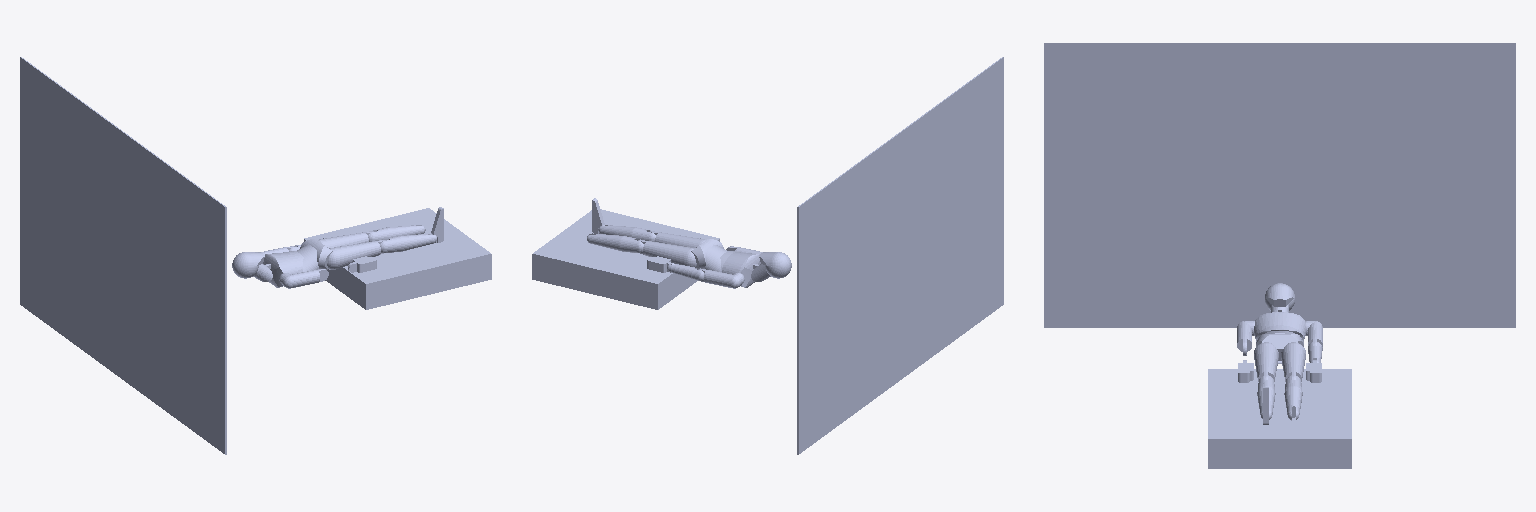
--- Render facts (derived) ---
3 views of the same robot in one strip: view 1: azimuth 30°, elevation 25°; view 2: azimuth 150°, elevation 25°; view 3: azimuth 270°, elevation 25° (orthographic).
Robot: autobed — 26 links, 25 joints (20 revolute, 3 prismatic, 2 fixed); root link autobed/base_link; default pose: every joint at zero.
Visible links, largest first — view 1: autobed/wall_link, autobed/leg_rest_lower_link, autobed/leg_rest_upper_link, autobed/quad_right_link, autobed/upper_body_link, autobed/calf_right_link, autobed/head_link, autobed/arm_right_link, autobed/calf_left_link; view 2: autobed/wall_link, autobed/leg_rest_lower_link, autobed/leg_rest_upper_link, autobed/upper_body_link, autobed/quad_left_link, autobed/calf_left_link, autobed/head_link, autobed/calf_right_link, autobed/arm_left_link; view 3: autobed/wall_link, autobed/leg_rest_lower_link, autobed/leg_rest_upper_link, autobed/upper_body_link, autobed/quad_left_link, autobed/quad_right_link, autobed/calf_left_link, autobed/head_link.
Boxes of the visible links, x1,y1,x2,y2 form: autobed/wall_link: (20,57,226,454); autobed/leg_rest_lower_link: (348,208,491,298); autobed/leg_rest_upper_link: (304,228,409,309); autobed/quad_right_link: (327,240,386,269); autobed/upper_body_link: (263,251,303,287); autobed/calf_right_link: (380,233,436,252); autobed/head_link: (232,252,264,278); autobed/arm_right_link: (279,269,328,288); autobed/calf_left_link: (368,225,425,241); autobed/wall_link: (797,57,1003,454); autobed/leg_rest_lower_link: (532,209,675,298); autobed/leg_rest_upper_link: (614,228,719,309); autobed/upper_body_link: (720,251,760,287); autobed/quad_left_link: (638,240,696,267); autobed/calf_left_link: (587,233,643,252); autobed/head_link: (759,252,791,278); autobed/calf_right_link: (598,225,655,241); autobed/arm_left_link: (698,269,744,288); autobed/wall_link: (1044,43,1515,327); autobed/leg_rest_lower_link: (1208,394,1351,468); autobed/leg_rest_upper_link: (1208,369,1351,393); autobed/upper_body_link: (1254,312,1305,341); autobed/quad_left_link: (1281,342,1305,381); autobed/quad_right_link: (1254,342,1278,381); autobed/calf_left_link: (1284,375,1302,420); autobed/head_link: (1265,283,1294,310).
Bounding box of the posed robot: 2.85 × 3 × 2 m (x, y, z).
18 mesh visuals loaded from 24 distinct referenced files (18 binary STL); not drawn: 6 (reference not matched to a file when rendering).

robot.urdf — autobed:
<?xml version="1.0" ?>
<robot
  name="autobed">
  <link
    name="autobed/base_link">
    <inertial>
      <origin
        xyz="1.07 -1.1433776843867E-16 0.0654891108010717"
        rpy="0 0 0" />
      <mass
        value="5.8260172808288" />
      <inertia
        ixx="1.14927006759014"
        ixy="4.44089209850063E-16"
        ixz="-2.75515108570424E-16"
        iyy="6.70434113225239"
        iyz="-1.34851165646458E-15"
        izz="7.79754704731756" />
    </inertial>
    <visual>
      <origin
        xyz="0 0 0"
        rpy="0 0 0" />
      <geometry>
        <mesh
          filename="package://hrl_base_selection/urdf/meshes/base_link.STL" />
      </geometry>
      <material
        name="">
        <color
          rgba="0.792156862745098 0.819607843137255 0.933333333333333 1" />
      </material>
    </visual>
    <collision>
      <origin
        xyz="0 0 0"
        rpy="0 0 0" />
      <geometry>
        <mesh
          filename="package://hrl_base_selection/urdf/meshes/base_link.STL" />
      </geometry>
    </collision>
  </link>
  <link
    name="autobed/wall_link">
    <inertial>
      <origin
        xyz="0. 0. 0."
        rpy="0 0 0" />
      <mass
        value="182.783" />
      <inertia
        ixx="14.1727036705024"
        ixy="3.00274731894519E-14"
        ixz="-0.582878793213973"
        iyy="75.8057802285568"
        iyz="9.93663151183257E-16"
        izz="86.6905817538877" />
    </inertial>
    <visual>
      <origin
        xyz="0 0 0"
        rpy="0 0 0" />
      <geometry>
        <mesh
          filename="package://hrl_base_selection/urdf/meshes/wall.stl" />
      </geometry>
      <material
        name="">
        <color
          rgba="0.792156862745098 0.819607843137255 0.933333333333333 1" />
      </material>
    </visual>
    <collision>
      <origin
        xyz="0 0 0"
        rpy="0 0 0" />
      <geometry>
        <mesh
          filename="package://hrl_base_selection/urdf/meshes/wall.stl" />
      </geometry>
    </collision>
  </link>
  <joint
    name="autobed/origin_wall_joint"
    type="fixed">
    <origin
      xyz="-0.75 0. 0."
      rpy="0 0 0" />
    <parent
      link="autobed/base_link" />
    <child
      link="autobed/wall_link" />
    <axis
      xyz="0 0 0" />
  </joint>
  <link
    name="autobed/bed_frame_link">
    <inertial>
      <origin
        xyz="1.0399 -0.27375 0.088166"
        rpy="0 0 0" />
      <mass
        value="182.783" />
      <inertia
        ixx="14.1727036705024"
        ixy="3.00274731894519E-14"
        ixz="-0.582878793213973"
        iyy="75.8057802285568"
        iyz="9.93663151183257E-16"
        izz="86.6905817538877" />
    </inertial>
    <visual>
      <origin
        xyz="0 0 0"
        rpy="0 0 0" />
      <geometry>
        <mesh
          filename="package://hrl_base_selection/urdf/meshes/bed_frame_link.STL" />
      </geometry>
      <material
        name="">
        <color
          rgba="0.792156862745098 0.819607843137255 0.933333333333333 1" />
      </material>
    </visual>
    <collision>
      <origin
        xyz="0 0 0"
        rpy="0 0 0" />
      <geometry>
        <mesh
          filename="package://hrl_base_selection/urdf/meshes/bed_frame_link.STL" />
      </geometry>
    </collision>
  </link>
  <joint
    name="autobed/tele_legs_joint"
    type="prismatic">
    <origin
      xyz="-0.02 .27375 0.2805"
      rpy="0 0 0" />
    <parent
      link="autobed/base_link" />
    <child
      link="autobed/bed_frame_link" />
    <axis
      xyz="0 0 1" />
    <limit
      lower="-1"
      upper="1"
      effort="0"
      velocity="0" />
  </joint>
  <link
    name="autobed/head_rest_link">
    <inertial>
      <origin
        xyz="0.372569569871449 -0.0933538492374752 -3.9665323774659E-16"
        rpy="0 0 0" />
      <mass
        value="152.153755040103" />
      <inertia
        ixx="11.3335835372931"
        ixy="0.223420816611719"
        ixz="-1.53371591687193E-15"
        iyy="16.9421346103201"
        iyz="-3.30400962622086E-15"
        izz="7.04456355370477" />
    </inertial>
    <visual>
      <origin
        xyz="0 0 0"
        rpy="0 0 0" />
      <geometry>
        <mesh
          filename="package://hrl_base_selection/urdf/meshes/head_rest_link.STL" />
      </geometry>
      <material
        name="">
        <color
          rgba="0.792156862745098 0.819607843137255 0.933333333333333 1" />
      </material>
    </visual>
    <collision>
      <origin
        xyz="0 0 0"
        rpy="0 0 0" />
      <geometry>
        <mesh
          filename="package://hrl_base_selection/urdf/meshes/head_rest_link.STL" />
      </geometry>
    </collision>
  </link>
  <joint
    name="autobed/head_rest_hinge"
    type="revolute">
    <origin
      xyz="0.775 -.27375 0.26"
      rpy="1.5708 1.0561E-10 3.1416" />
    <parent
      link="autobed/bed_frame_link" />
    <child
      link="autobed/head_rest_link" />
    <axis
      xyz="0 0 1" />
    <limit
      lower="-2"
      upper="2"
      effort="0"
      velocity="0" />
  </joint>
  <link
    name="autobed/head_updown_translation_link">
    <inertial>
      <origin
        xyz="0.102906766161206 -9.91266292424373E-09 -0.0297782124304694"
        rpy="0 0 0" />
      <mass
        value="3.9328527892651" />
      <inertia
        ixx="0.0179544834914724"
        ixy="-5.43457600009831E-10"
        ixz="-0.00240657860486129"
        iyy="0.0177023015774365"
        iyz="-5.46748238349167E-09"
        izz="0.0152180232656692" />
    </inertial>
  </link>
  <joint
    name="autobed/head_bed_updown_joint"
    type="prismatic">
    <origin
      xyz="0.49949 0.05 0"
      rpy="1.5708 -2.9674E-16 1.5708" />
    <parent
      link="autobed/head_rest_link" />
    <child
      link="autobed/head_updown_translation_link" />
    <axis
      xyz="0 0 -1" />
    <limit
      lower="-20."
      upper="20."
      effort="0"
      velocity="0" />
  </joint>
  <link
    name="autobed/head_leftright_translation_link">
    <inertial>
      <origin
        xyz="0.102906766161206 0.0297782124304694 -9.912662920814E-09"
        rpy="0 0 0" />
      <mass
        value="3.9328527892651" />
      <inertia
        ixx="0.0179544834914724"
        ixy="0.00240657860486129"
        ixz="-5.43457600415785E-10"
        iyy="0.0152180232656692"
        iyz="5.46748238053038E-09"
        izz="0.0177023015774365" />
    </inertial>
  </link>
  <joint
    name="autobed/head_bed_leftright_joint"
    type="prismatic">
    <origin
      xyz="0 0 0"
      rpy="-1.5708 -1.0548E-16 7.5835E-18" />
    <parent
      link="autobed/head_updown_translation_link" />
    <child
      link="autobed/head_leftright_translation_link" />
    <axis
      xyz="0 0 1" />
    <limit
      lower="-2"
      upper="2"
      effort="0"
      velocity="0" />
  </joint>
  <link
    name="autobed/head_link">
    <inertial>
      <origin
        xyz="0.00931747164111318 -9.91266701204326E-09 0.0105706865051194"
        rpy="0 0 0" />
      <mass
        value="3.9328527892651" />
      <inertia
        ixx="0.0165678861121358"
        ixy="8.90148620513218E-10"
        ixz="-0.0027682732644648"
        iyy="0.0177023015774365"
        iyz="-5.42183952528328E-09"
        izz="0.0166046206450058" />
    </inertial>
    <visual>
      <origin
        xyz="0 0 0"
        rpy="0 0 0" />
      <geometry>
        <mesh
          filename="package://hrl_base_selection/urdf/meshes/head_link.STL" />
      </geometry>
      <material
        name="">
        <color
          rgba="0.792156862745098 0.819607843137255 0.933333333333333 1" />
      </material>
    </visual>
    <collision>
      <origin
        xyz="0 0 0"
        rpy="0 0 0" />
      <geometry>
        <mesh
          filename="package://hrl_base_selection/urdf/meshes/head_link.STL" />
      </geometry>
    </collision>
  </link>
  <joint
    name="autobed/head_contact_to_head_center"
    type="fixed">
    <origin
      xyz="0.091171 0.037577 0"
      rpy="1.5708 -3.0499E-16 0.2618" />
    <parent
      link="autobed/head_leftright_translation_link" />
    <child
      link="autobed/head_link" />
    <axis
      xyz="0 0 0" />
  </joint>
  <link
    name="autobed/neck_rotation">
    <inertial>
      <origin
        xyz="0.0299911113671753 -1.13479703411912E-09 5.25989263663437E-09"
        rpy="0 0 0" />
      <mass
        value="1.53148702191926" />
      <inertia
        ixx="0.00269322706497261"
        ixy="1.09857620830128E-10"
        ixz="7.58048241070777E-10"
        iyy="0.00564516811473134"
        iyz="9.21844170034423E-09"
        izz="0.00511128582091916" />
    </inertial>
    <visual>
      <origin
        xyz="0 0 0"
        rpy="0 0 0" />
      <geometry>
        <mesh
          filename="package://hrl_base_selection/urdf/meshes/neck_rotation.STL" />
      </geometry>
      <material
        name="">
        <color
          rgba="0.792156862745098 0.819607843137255 0.933333333333333 1" />
      </material>
    </visual>
    <collision>
      <origin
        xyz="0 0 0"
        rpy="0 0 0" />
      <geometry>
        <mesh
          filename="package://hrl_base_selection/urdf/meshes/neck_rotation.STL" />
      </geometry>
    </collision>
  </link>
  <joint
    name="autobed/head_neck_joint1"
    type="revolute">
    <origin
      xyz="-0.0254 0 -0.08509"
      rpy="-1.5708 1.1345 -3.1416" />
    <parent
      link="autobed/head_link" />
    <child
      link="autobed/neck_rotation" />
    <axis
      xyz="0 0 1" />
    <limit
      lower="-2"
      upper="2"
      effort="0"
      velocity="0" />
  </joint>
  <link
    name="autobed/neck_link">
    <inertial>
      <origin
        xyz="0.0299911113671752 -1.13479703411912E-09 5.2598925958448E-09"
        rpy="0 0 0" />
      <mass
        value="1.53148702191926" />
      <inertia
        ixx="0.00269322706497261"
        ixy="1.09857618011203E-10"
        ixz="7.58048239319453E-10"
        iyy="0.00564516811473135"
        iyz="9.2184417026311E-09"
        izz="0.00511128582091917" />
    </inertial>
    <visual>
      <origin
        xyz="0 0 0"
        rpy="0 0 0" />
      <geometry>
        <mesh
          filename="package://hrl_base_selection/urdf/meshes/neck_link.STL" />
      </geometry>
      <material
        name="">
        <color
          rgba="0.792156862745098 0.819607843137255 0.933333333333333 1" />
      </material>
    </visual>
    <collision>
      <origin
        xyz="0 0 0"
        rpy="0 0 0" />
      <geometry>
        <mesh
          filename="package://hrl_base_selection/urdf/meshes/neck_link.STL" />
      </geometry>
    </collision>
  </link>
  <joint
    name="autobed/head_neck_joint2"
    type="revolute">
    <origin
      xyz="0 0 0"
      rpy="0 3.1554E-30 0" />
    <parent
      link="autobed/neck_rotation" />
    <child
      link="autobed/neck_link" />
    <axis
      xyz="0 0 1" />
    <limit
      lower="-2"
      upper="2"
      effort="0"
      velocity="0" />
  </joint>
  <link
    name="autobed/upper_body_link">
    <inertial>
      <origin
        xyz="0.158709266111028 -2.77439784790445E-06 1.07349517852832E-06"
        rpy="0 0 0" />
      <mass
        value="10.994324812456" />
      <inertia
        ixx="0.0988263493770442"
        ixy="1.38503182626169E-06"
        ixz="-6.9051458787949E-07"
        iyy="0.107887273916327"
        iyz="1.87457468166473E-07"
        izz="0.0771158536159493" />
    </inertial>
    <visual>
      <origin
        xyz="0 0 0"
        rpy="0 0 0" />
      <geometry>
        <mesh
          filename="package://hrl_base_selection/urdf/meshes/upper_body_link.STL" />
      </geometry>
      <material
        name="">
        <color
          rgba="0.792156862745098 0.819607843137255 0.933333333333333 1" />
      </material>
    </visual>
    <collision>
      <origin
        xyz="0 0 0"
        rpy="0 0 0" />
      <geometry>
        <mesh
          filename="package://hrl_base_selection/urdf/meshes/upper_body_link.STL" />
      </geometry>
    </collision>
  </link>
  <joint
    name="autobed/neck_body_joint"
    type="revolute">
    <origin
      xyz="0.07239 0 0"
      rpy="-8.8242E-17 -8.2927E-14 0.66506" />
    <parent
      link="autobed/neck_link" />
    <child
      link="autobed/upper_body_link" />
    <axis
      xyz="0 0 -1" />
    <limit
      lower="-2"
      upper="2"
      effort="0"
      velocity="0" />
  </joint>
  <link
    name="autobed/mid_body_link">
    <inertial>
      <origin
        xyz="-0.0123598486303793 -2.47973091949127E-07 4.77082923404006E-06"
        rpy="0 0 0" />
      <mass
        value="6.7659491084038" />
      <inertia
        ixx="0.0508733259634872"
        ixy="-3.30920427328747E-07"
        ixz="-1.38996093328425E-06"
        iyy="0.0489774373986986"
        iyz="-1.12269337166179E-05"
        izz="0.0317417004953391" />
    </inertial>
    <visual>
      <origin
        xyz="0 0 0"
        rpy="0 0 0" />
      <geometry>
        <mesh
          filename="package://hrl_base_selection/urdf/meshes/mid_body_link.STL" />
      </geometry>
      <material
        name="">
        <color
          rgba="0.792156862745098 0.819607843137255 0.933333333333333 1" />
      </material>
    </visual>
    <collision>
      <origin
        xyz="0 0 0"
        rpy="0 0 0" />
      <geometry>
        <mesh
          filename="package://hrl_base_selection/urdf/meshes/mid_body_link.STL" />
      </geometry>
    </collision>
  </link>
  <joint
    name="autobed/upper_mid_body_joint"
    type="revolute">
    <origin
      xyz="0.35052 0 0"
      rpy="2.8327E-14 7.7949E-14 0.34907" />
    <parent
      link="autobed/upper_body_link" />
    <child
      link="autobed/mid_body_link" />
    <axis
      xyz="0 0 -1" />
    <limit
      lower="-2"
      upper="2"
      effort="0"
      velocity="0" />
  </joint>
  <link
    name="autobed/lower_body_link">
    <inertial>
      <origin
        xyz="-0.0424892964347593 -1.55212564689755E-07 -3.05517167826124E-08"
        rpy="0 0 0" />
      <mass
        value="3.76095443118537" />
      <inertia
        ixx="0.0264188029132303"
        ixy="5.26534020954018E-07"
        ixz="1.13275130192356E-08"
        iyy="0.021880217675706"
        iyz="6.6476429005472E-06"
        izz="0.0115760285735275" />
    </inertial>
    <visual>
      <origin
        xyz="0 0 0"
        rpy="0 0 0" />
      <geometry>
        <mesh
          filename="package://hrl_base_selection/urdf/meshes/lower_body_link.STL" />
      </geometry>
      <material
        name="">
        <color
          rgba="0.792156862745098 0.819607843137255 0.933333333333333 1" />
      </material>
    </visual>
    <collision>
      <origin
        xyz="0 0 0"
        rpy="0 0 0" />
      <geometry>
        <mesh
          filename="package://hrl_base_selection/urdf/meshes/lower_body_link.STL" />
      </geometry>
    </collision>
  </link>
  <joint
    name="autobed/mid_lower_body_joint"
    type="revolute">
    <origin
      xyz="0.15113 0 0"
      rpy="-4.3091E-16 1.669E-15 -0.57779" />
    <parent
      link="autobed/mid_body_link" />
    <child
      link="autobed/lower_body_link" />
    <axis
      xyz="0 0 -1" />
    <limit
      lower="-2"
      upper="2"
      effort="0"
      velocity="0" />
  </joint>
  <link
    name="autobed/quad_left_link">
    <inertial>
      <origin
        xyz="0.135870836223123 0.036406480838746 1.20320420293751E-14"
        rpy="0 0 0" />
      <mass
        value="6.89674952703915" />
      <inertia
        ixx="0.0241142535313263"
        ixy="0.0272592576621165"
        ixz="-8.25751406148771E-11"
        iyy="0.118543092031703"
        iyz="3.08210707771496E-10"
        izz="0.126021276865764" />
    </inertial>
    <visual>
      <origin
        xyz="0 0 0"
        rpy="0 0 0" />
      <geometry>
        <mesh
          filename="package://hrl_base_selection/urdf/meshes/quad_left_link.STL" />
      </geometry>
      <material
        name="">
        <color
          rgba="0.792156862745098 0.819607843137255 0.933333333333333 1" />
      </material>
    </visual>
    <collision>
      <origin
        xyz="0 0 0"
        rpy="0 0 0" />
      <geometry>
        <mesh
          filename="package://hrl_base_selection/urdf/meshes/quad_left_link.STL" />
      </geometry>
    </collision>
  </link>
  <joint
    name="autobed/body_quad_left_joint"
    type="revolute">
    <origin
      xyz="0.05207 0 -0.08636"
      rpy="-3.1554E-30 -3.1554E-30 -2.7756E-17" />
    <parent
      link="autobed/lower_body_link" />
    <child
      link="autobed/quad_left_link" />
    <axis
      xyz="0 0 1" />
    <limit
      lower="-3."
      upper="3."
      effort="0"
      velocity="0" />
  </joint>
  <link
    name="autobed/calf_left_link">
    <inertial>
      <origin
        xyz="-0.180906642816524 -0.0139713255979246 1.60067792354113E-12"
        rpy="0 0 0" />
      <mass
        value="3.39536669784164" />
      <inertia
        ixx="0.0049226177583511"
        ixy="0.00333413184068126"
        ixz="1.26232091450053E-12"
        iyy="0.0478368760783845"
        iyz="-4.13932285075363E-12"
        izz="0.0478732548846709" />
    </inertial>
    <visual>
      <origin
        xyz="0 0 0"
        rpy="0 0 0" />
      <geometry>
        <mesh
          filename="package://hrl_base_selection/urdf/meshes/calf_left_link.STL" />
      </geometry>
      <material
        name="">
        <color
          rgba="0.792156862745098 0.819607843137255 0.933333333333333 1" />
      </material>
    </visual>
    <collision>
      <origin
        xyz="0 0 0"
        rpy="0 0 0" />
      <geometry>
        <mesh
          filename="package://hrl_base_selection/urdf/meshes/calf_left_link.STL" />
      </geometry>
    </collision>
  </link>
  <joint
    name="autobed/quad_calf_left_joint"
    type="revolute">
    <origin
      xyz="0.41218 0.11044 0"
      rpy="3.1416 8.5469E-14 -2.8798" />
    <parent
      link="autobed/quad_left_link" />
    <child
      link="autobed/calf_left_link" />
    <axis
      xyz="0 0 1" />
    <limit
      lower="-3."
      upper="3."
      effort="0"
      velocity="0" />
  </joint>
  <link
    name="autobed/foot_left_link">
    <inertial>
      <origin
        xyz="-0.0475610965067932 0.0816676483447464 -4.16333634234434E-17"
        rpy="0 0 0" />
      <mass
        value="0.615189243278472" />
      <inertia
        ixx="0.00304936402573348"
        ixy="-0.000154899374275574"
        ixz="1.7446046542978E-19"
        iyy="0.000412328810634253"
        iyz="-3.97105362266834E-20"
        izz="0.00332455031530266" />
    </inertial>
    <visual>
      <origin
        xyz="0 0 0"
        rpy="0 0 0" />
      <geometry>
        <mesh
          filename="package://hrl_base_selection/urdf/meshes/foot_left_link.STL" />
      </geometry>
      <material
        name="">
        <color
          rgba="0.792156862745098 0.819607843137255 0.933333333333333 1" />
      </material>
    </visual>
    <collision>
      <origin
        xyz="0 0 0"
        rpy="0 0 0" />
      <geometry>
        <mesh
          filename="package://hrl_base_selection/urdf/meshes/foot_left_link.STL" />
      </geometry>
    </collision>
  </link>
  <joint
    name="autobed/calf_foot_left_joint"
    type="revolute">
    <origin
      xyz="-0.41279 -0.03188 0"
      rpy="2.4608E-16 9.411E-16 0.077076" />
    <parent
      link="autobed/calf_left_link" />
    <child
      link="autobed/foot_left_link" />
    <axis
      xyz="0 0 1" />
    <limit
      lower="-3."
      upper="3."
      effort="0"
      velocity="0" />
  </joint>
  <link
    name="autobed/quad_right_link">
    <inertial>
      <origin
        xyz="0.13587083622245 0.0364064808391208 1.19904086659517E-14"
        rpy="0 0 0" />
      <mass
        value="6.89674952703915" />
      <inertia
        ixx="0.024114253531194"
        ixy="0.0272592576618873"
        ixz="-8.2575179988774E-11"
        iyy="0.118543092031835"
        iyz="3.08210697239393E-10"
        izz="0.126021276865764" />
    </inertial>
    <visual>
      <origin
        xyz="0 0 0"
        rpy="0 0 0" />
      <geometry>
        <mesh
          filename="package://hrl_base_selection/urdf/meshes/quad_right_link.STL" />
      </geometry>
      <material
        name="">
        <color
          rgba="0.792156862745098 0.819607843137255 0.933333333333333 1" />
      </material>
    </visual>
    <collision>
      <origin
        xyz="0 0 0"
        rpy="0 0 0" />
      <geometry>
        <mesh
          filename="package://hrl_base_selection/urdf/meshes/quad_right_link.STL" />
      </geometry>
    </collision>
  </link>
  <joint
    name="autobed/body_quad_right_joint"
    type="revolute">
    <origin
      xyz="0.05207 0 0.08636"
      rpy="-3.1554E-30 -3.1554E-30 -2.7756E-17" />
    <parent
      link="autobed/lower_body_link" />
    <child
      link="autobed/quad_right_link" />
    <axis
      xyz="0 0 1" />
    <limit
      lower="-3"
      upper="3"
      effort="0"
      velocity="0" />
  </joint>
  <link
    name="autobed/calf_right_link">
    <inertial>
      <origin
        xyz="-0.180906642816537 -0.0139713255970793 1.60067792354113E-12"
        rpy="0 0 0" />
      <mass
        value="3.39536669784164" />
      <inertia
        ixx="0.00492261775832246"
        ixy="0.00333413184049699"
        ixz="1.26236389002121E-12"
        iyy="0.0478368760784132"
        iyz="-4.13931941107381E-12"
        izz="0.0478732548846708" />
    </inertial>
    <visual>
      <origin
        xyz="0 0 0"
        rpy="0 0 0" />
      <geometry>
        <mesh
          filename="package://hrl_base_selection/urdf/meshes/calf_right_link.STL" />
      </geometry>
      <material
        name="">
        <color
          rgba="0.792156862745098 0.819607843137255 0.933333333333333 1" />
      </material>
    </visual>
    <collision>
      <origin
        xyz="0 0 0"
        rpy="0 0 0" />
      <geometry>
        <mesh
          filename="package://hrl_base_selection/urdf/meshes/calf_right_link.STL" />
      </geometry>
    </collision>
  </link>
  <joint
    name="autobed/quad_calf_right_joint"
    type="revolute">
    <origin
      xyz="0.41218 0.11044 0"
      rpy="3.1416 8.5225E-14 -2.8798" />
    <parent
      link="autobed/quad_right_link" />
    <child
      link="autobed/calf_right_link" />
    <axis
      xyz="0 0 1" />
    <limit
      lower="-3"
      upper="3"
      effort="0"
      velocity="0" />
  </joint>
  <link
    name="autobed/foot_right_link">
    <inertial>
      <origin
        xyz="-0.0475610965067859 0.0816676483447651 1.38777878078145E-17"
        rpy="0 0 0" />
      <mass
        value="0.615189243278473" />
      <inertia
        ixx="0.00304936402573348"
        ixy="-0.000154899374275576"
        ixz="-2.68019252719947E-19"
        iyy="0.000412328810634254"
        iyz="3.53080400658611E-18"
        izz="0.00332455031530267" />
    </inertial>
    <visual>
      <origin
        xyz="0 0 0"
        rpy="0 0 0" />
      <geometry>
        <mesh
          filename="package://hrl_base_selection/urdf/meshes/foot_right_link.STL" />
      </geometry>
      <material
        name="">
        <color
          rgba="0.792156862745098 0.819607843137255 0.933333333333333 1" />
      </material>
    </visual>
    <collision>
      <origin
        xyz="0 0 0"
        rpy="0 0 0" />
      <geometry>
        <mesh
          filename="package://hrl_base_selection/urdf/meshes/foot_right_link.STL" />
      </geometry>
    </collision>
  </link>
  <joint
    name="autobed/calf_foot_right_joint"
    type="revolute">
    <origin
      xyz="-0.41279 -0.03188 0"
      rpy="3.3137E-27 3.7799E-26 0.077076" />
    <parent
      link="autobed/calf_right_link" />
    <child
      link="autobed/foot_right_link" />
    <axis
      xyz="0 0 1" />
    <limit
      lower="-3"
      upper="3"
      effort="0"
      velocity="0" />
  </joint>
  <link
    name="autobed/arm_left_link">
    <inertial>
      <origin
        xyz="0.1001623892808 -0.00376860746206564 -0.0415301013139193"
        rpy="0 0 0" />
      <mass
        value="2.60960654017703" />
      <inertia
        ixx="0.00404950781774846"
        ixy="-0.000794518553713614"
        ixz="-0.00213077537777598"
        iyy="0.0251366223518226"
        iyz="8.01649819245336E-05"
        izz="0.0243099855919405" />
    </inertial>
    <visual>
      <origin
        xyz="0 0 0"
        rpy="0 0 0" />
      <geometry>
        <mesh
          filename="package://hrl_base_selection/urdf/meshes/arm_left_link.STL" />
      </geometry>
      <material
        name="">
        <color
          rgba="0.792156862745098 0.819607843137255 0.933333333333333 1" />
      </material>
    </visual>
    <collision>
      <origin
        xyz="0 0 0"
        rpy="0 0 0" />
      <geometry>
        <mesh
          filename="package://hrl_base_selection/urdf/meshes/arm_left_link.STL" />
      </geometry>
    </collision>
  </link>
  <joint
    name="autobed/body_arm_left_joint"
    type="revolute">
    <origin
      xyz="0.09652 0 -0.17526"
      rpy="2.6872E-15 8.287E-14 0.033074" />
    <parent
      link="autobed/upper_body_link" />
    <child
      link="autobed/arm_left_link" />
    <axis
      xyz="0 0 1" />
    <limit
      lower="-3"
      upper="3"
      effort="0"
      velocity="0" />
  </joint>
  <link
    name="autobed/forearm_left_link">
    <inertial>
      <origin
        xyz="0.106228215345525 -1.91191507070698E-12 0"
        rpy="0 0 0" />
      <mass
        value="1.32173737819403" />
      <inertia
        ixx="0.00119534139517087"
        ixy="-1.35159335608086E-13"
        ixz="-5.04149881322934E-19"
        iyy="0.00870475374464507"
        iyz="1.19370114943691E-09"
        izz="0.00856399030741715" />
    </inertial>
    <visual>
      <origin
        xyz="0 0 0"
        rpy="0 0 0" />
      <geometry>
        <mesh
          filename="package://hrl_base_selection/urdf/meshes/forearm_left_link.STL" />
      </geometry>
      <material
        name="">
        <color
          rgba="0.792156862745098 0.819607843137255 0.933333333333333 1" />
      </material>
    </visual>
    <collision>
      <origin
        xyz="0 0 0"
        rpy="0 0 0" />
      <geometry>
        <mesh
          filename="package://hrl_base_selection/urdf/meshes/forearm_left_link.STL" />
      </geometry>
    </collision>
  </link>
  <joint
    name="autobed/arm_forearm_left_joint"
    type="revolute">
    <origin
      xyz="0.28174 -0.0106 -0.04953"
      rpy="1.1849E-16 -8.3419E-14 -1.6268E-27" />
    <parent
      link="autobed/arm_left_link" />
    <child
      link="autobed/forearm_left_link" />
    <axis
      xyz="0 0 1" />
    <limit
      lower="-3"
      upper="3"
      effort="0"
      velocity="0" />
  </joint>
  <link
    name="autobed/hand_left_link">
    <inertial>
      <origin
        xyz="0.0980143408405634 -1.86517468137026E-12 0.0049795365316434"
        rpy="0 0 0" />
      <mass
        value="1.1356241768054" />
      <inertia
        ixx="0.00131058345181311"
        ixy="-4.85702000140823E-14"
        ixz="-9.6566899557011E-05"
        iyy="0.00386297813592635"
        iyz="1.8376914107142E-15"
        izz="0.00343338240819095" />
    </inertial>
    <visual>
      <origin
        xyz="0 0 0"
        rpy="0 0 0" />
      <geometry>
        <mesh
          filename="package://hrl_base_selection/urdf/meshes/hand_left_link.STL" />
      </geometry>
      <material
        name="">
        <color
          rgba="0.792156862745098 0.819607843137255 0.933333333333333 1" />
      </material>
    </visual>
    <collision>
      <origin
        xyz="0 0 0"
        rpy="0 0 0" />
      <geometry>
        <mesh
          filename="package://hrl_base_selection/urdf/meshes/hand_left_link.STL" />
      </geometry>
    </collision>
  </link>
  <joint
    name="autobed/forearm_hand_left_joint"
    type="revolute">
    <origin
      xyz="0.25146 0 0"
      rpy="1.3447E-16 8.3999E-14 1.6283E-27" />
    <parent
      link="autobed/forearm_left_link" />
    <child
      link="autobed/hand_left_link" />
    <axis
      xyz="0 0 1" />
    <limit
      lower="-3"
      upper="3"
      effort="0"
      velocity="0" />
  </joint>
  <link
    name="autobed/arm_right_link">
    <inertial>
      <origin
        xyz="0.100233262071747 3.52074113196821E-08 0.041530101413327"
        rpy="0 0 0" />
      <mass
        value="2.60960651501635" />
      <inertia
        ixx="0.00401961437786645"
        ixy="-7.60885930854E-10"
        ixz="0.00213228273829607"
        iyy="0.0251665155968144"
        iyz="-4.35824513311461E-09"
        izz="0.0243099854332681" />
    </inertial>
    <visual>
      <origin
        xyz="0 0 0"
        rpy="0 0 0" />
      <geometry>
        <mesh
          filename="package://hrl_base_selection/urdf/meshes/arm_right_link.STL" />
      </geometry>
      <material
        name="">
        <color
          rgba="0.792156862745098 0.819607843137255 0.933333333333333 1" />
      </material>
    </visual>
    <collision>
      <origin
        xyz="0 0 0"
        rpy="0 0 0" />
      <geometry>
        <mesh
          filename="package://hrl_base_selection/urdf/meshes/arm_right_link.STL" />
      </geometry>
    </collision>
  </link>
  <joint
    name="autobed/body_arm_right_joint"
    type="revolute">
    <origin
      xyz="0.09652 0 0.17526"
      rpy="-3.0757E-16 8.2843E-14 -0.0045332" />
    <parent
      link="autobed/upper_body_link" />
    <child
      link="autobed/arm_right_link" />
    <axis
      xyz="0 0 1" />
    <limit
      lower="-3"
      upper="3"
      effort="0"
      velocity="0" />
  </joint>
  <link
    name="autobed/forearm_right_link">
    <inertial>
      <origin
        xyz="0.106228216482346 -1.30587407554117E-09 -9.51088152678636E-10"
        rpy="0 0 0" />
      <mass
        value="1.32173736893606" />
      <inertia
        ixx="0.00119534120618663"
        ixy="1.414727832101E-10"
        ixz="1.35038570191339E-10"
        iyy="0.00870475371023631"
        iyz="1.17395654858625E-09"
        izz="0.00856399012619121" />
    </inertial>
    <visual>
      <origin
        xyz="0 0 0"
        rpy="0 0 0" />
      <geometry>
        <mesh
          filename="package://hrl_base_selection/urdf/meshes/forearm_right_link.STL" />
      </geometry>
      <material
        name="">
        <color
          rgba="0.792156862745098 0.819607843137255 0.933333333333333 1" />
      </material>
    </visual>
    <collision>
      <origin
        xyz="0 0 0"
        rpy="0 0 0" />
      <geometry>
        <mesh
          filename="package://hrl_base_selection/urdf/meshes/forearm_right_link.STL" />
      </geometry>
    </collision>
  </link>
  <joint
    name="autobed/arm_forearm_right_joint"
    type="revolute">
    <origin
      xyz="0.28194 0 0.04953"
      rpy="2.6089E-19 -8.3342E-14 0.037607" />
    <parent
      link="autobed/arm_right_link" />
    <child
      link="autobed/forearm_right_link" />
    <axis
      xyz="0 0 1" />
    <limit
      lower="-3"
      upper="3"
      effort="0"
      velocity="0" />
  </joint>
  <link
    name="autobed/hand_right_link">
    <inertial>
      <origin
        xyz="0.0980143408405629 -2.15505391309989E-12 -0.00497953653164337"
        rpy="0 0 0" />
      <mass
        value="1.13562417680541" />
      <inertia
        ixx="0.00131058345181312"
        ixy="-5.61198127715408E-14"
        ixz="9.65668995570131E-05"
        iyy="0.00386297813592636"
        iyz="-2.12313391417147E-15"
        izz="0.00343338240819096" />
    </inertial>
    <visual>
      <origin
        xyz="0 0 0"
        rpy="0 0 0" />
      <geometry>
        <mesh
          filename="package://hrl_base_selection/urdf/meshes/hand_right_link.STL" />
      </geometry>
      <material
        name="">
        <color
          rgba="0.792156862745098 0.819607843137255 0.933333333333333 1" />
      </material>
    </visual>
    <collision>
      <origin
        xyz="0 0 0"
        rpy="0 0 0" />
      <geometry>
        <mesh
          filename="package://hrl_base_selection/urdf/meshes/hand_right_link.STL" />
      </geometry>
    </collision>
  </link>
  <joint
    name="autobed/forearm_hand_right_joint"
    type="revolute">
    <origin
      xyz="0.25146 0 0"
      rpy="1.9364E-14 8.3335E-14 1.6151E-27" />
    <parent
      link="autobed/forearm_right_link" />
    <child
      link="autobed/hand_right_link" />
    <axis
      xyz="0 0 1" />
    <limit
      lower="-3"
      upper="3"
      effort="0"
      velocity="0" />
  </joint>
  <link
    name="autobed/leg_rest_upper_link">
    <inertial>
      <origin
        xyz="0.184999999999909 0.105000000000441 -2.76269761501025E-16"
        rpy="0 0 0" />
      <mass
        value="71.0955" />
      <inertia
        ixx="5.221520128125"
        ixy="-6.98374142907244E-13"
        ixz="-6.34687481067045E-16"
        iyy="5.771325328125"
        iyz="-1.36920550145777E-16"
        izz="1.072357125" />
    </inertial>
    <visual>
      <origin
        xyz="0 0 0"
        rpy="0 0 0" />
      <geometry>
        <mesh
          filename="package://hrl_base_selection/urdf/meshes/leg_rest_upper_link.STL" />
      </geometry>
      <material
        name="">
        <color
          rgba="0.792156862745098 0.819607843137255 0.933333333333333 1" />
      </material>
    </visual>
    <collision>
      <origin
        xyz="0 0 0"
        rpy="0 0 0" />
      <geometry>
        <mesh
          filename="package://hrl_base_selection/urdf/meshes/leg_rest_upper_link.STL" />
      </geometry>
    </collision>
  </link>
  <joint
    name="autobed/leg_rest_upper_joint"
    type="revolute">
    <origin
      xyz="1.055 -0.27375 0.05"
      rpy="1.5708 2.1987E-11 3.9465E-16" />
    <parent
      link="autobed/bed_frame_link" />
    <child
      link="autobed/leg_rest_upper_link" />
    <axis
      xyz="0 0 1" />
    <limit
      lower="-3"
      upper="3"
      effort="0"
      velocity="0" />
  </joint>
  <link
    name="autobed/leg_rest_lower_link">
    <inertial>
      <origin
        xyz="0.345000000000193 0.10499999999918 -5.70451144183548E-17"
        rpy="0 0 0" />
      <mass
        value="132.5835" />
      <inertia
        ixx="9.73742942812501"
        ixy="9.56539519154387E-17"
        ixz="2.44106387255003E-16"
        iyy="14.510435428125"
        iyz="1.11598435800825E-16"
        izz="5.747494725" />
    </inertial>
    <visual>
      <origin
        xyz="0 0 0"
        rpy="0 0 0" />
      <geometry>
        <mesh
          filename="package://hrl_base_selection/urdf/meshes/leg_rest_lower_link.STL" />
      </geometry>
      <material
        name="">
        <color
          rgba="0.792156862745098 0.819607843137255 0.933333333333333 1" />
      </material>
    </visual>
    <collision>
      <origin
        xyz="0 0 0"
        rpy="0 0 0" />
      <geometry>
        <mesh
          filename="package://hrl_base_selection/urdf/meshes/leg_rest_lower_link.STL" />
      </geometry>
    </collision>
  </link>
  <joint
    name="autobed/leg_rest_upper_lower_joint"
    type="revolute">
    <origin
      xyz="0.37 0 0"
      rpy="-3.7123E-16 5.9121E-16 3.7854E-11" />
    <parent
      link="autobed/leg_rest_upper_link" />
    <child
      link="autobed/leg_rest_lower_link" />
    <axis
      xyz="0 0 1" />
    <limit
      lower="-3"
      upper="3"
      effort="0"
      velocity="0" />
  </joint>
</robot>
